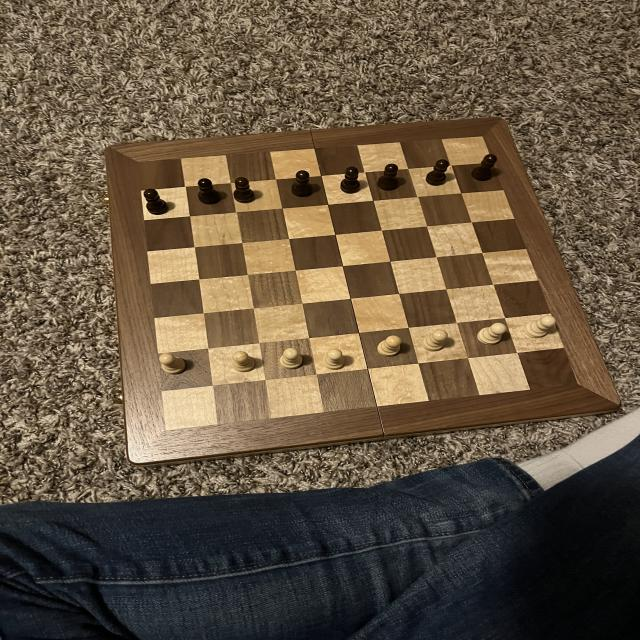black-knight: (139, 183, 173, 216), (466, 152, 499, 184), (288, 168, 318, 202), (423, 156, 454, 188), (375, 160, 404, 194), (231, 175, 262, 206), (336, 163, 364, 196), (195, 176, 222, 207)
white-knight: (470, 320, 510, 350), (417, 327, 453, 355), (317, 344, 348, 376), (523, 314, 559, 341), (227, 349, 261, 375), (276, 345, 307, 373), (373, 333, 406, 359), (160, 349, 188, 377)
